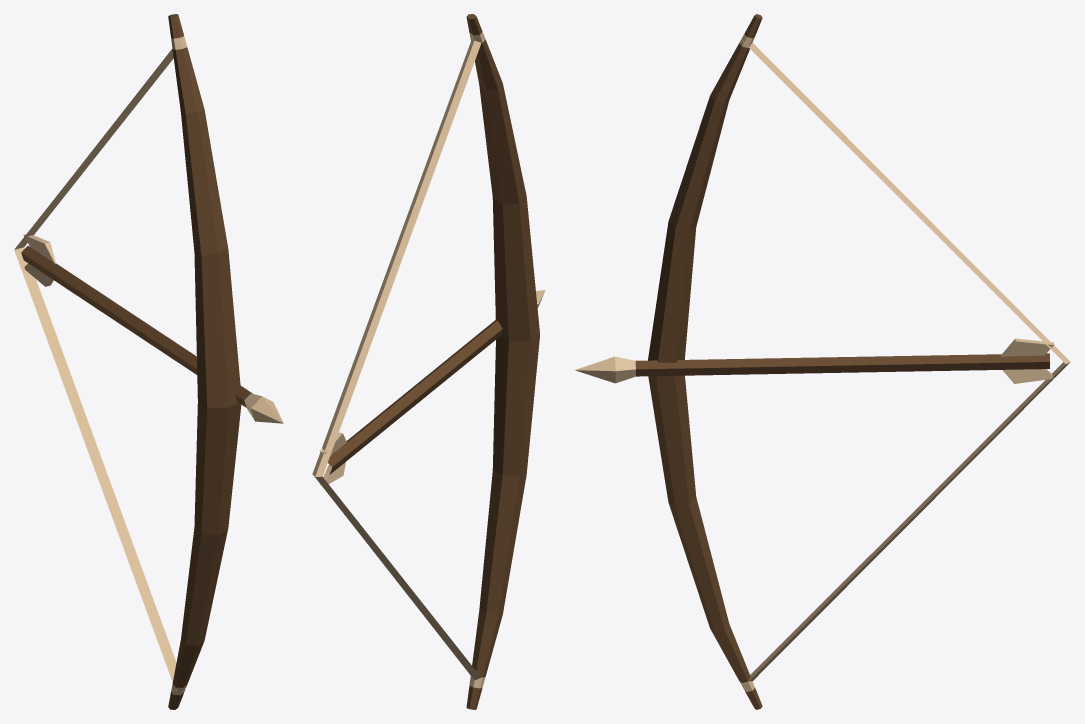
Rendered from weapons-bow.glb.
3 renders of one model, left to right at view 1: azimuth 30°, elevation 25°; view 2: azimuth 150°, elevation 25°; view 3: azimuth 270°, elevation 25°, orthographic.
Parts seen in each view (by area): view 1: bow; view 2: bow; view 3: bow.
Boxes of the visible parts, left/top/right/bottom form: bow: left=14, top=14, right=283, bottom=709; bow: left=312, top=14, right=545, bottom=709; bow: left=574, top=14, right=1070, bottom=709.
Bounding box in the file's own units: 0.0813 × 1.17 × 0.7615.
